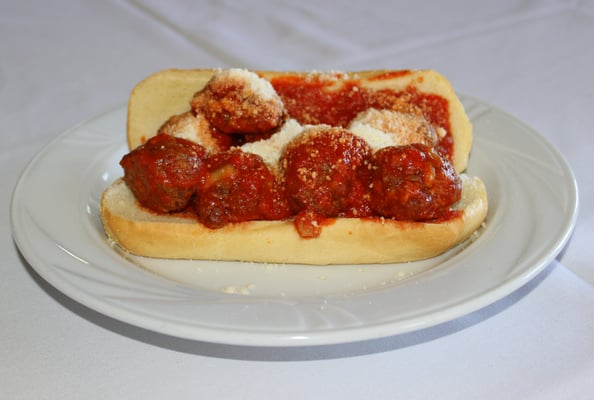curry: (26, 6, 593, 393)
sandwich: (106, 67, 487, 265)
